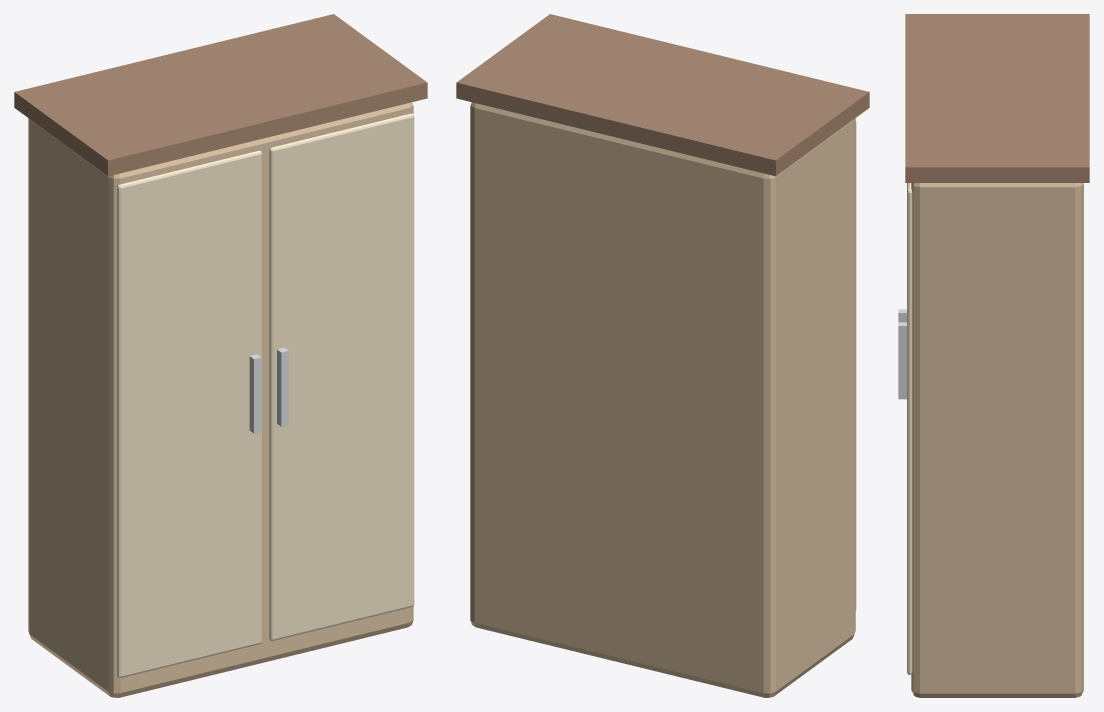
The model's file is guarda_roupa.glb.
3 renders of one model, left to right at view 1: azimuth 30°, elevation 25°; view 2: azimuth 150°, elevation 25°; view 3: azimuth 270°, elevation 25°, orthographic.
Visible parts, largest first — view 1: guarda_roupa; view 2: guarda_roupa; view 3: guarda_roupa.
Part boxes in pixels (box(x1,y1,x2,y2)): guarda_roupa: box(14, 14, 427, 697); guarda_roupa: box(456, 14, 869, 697); guarda_roupa: box(898, 14, 1089, 697).
Bounding box in the file's own units: 1.26 × 2.06 × 0.665.
